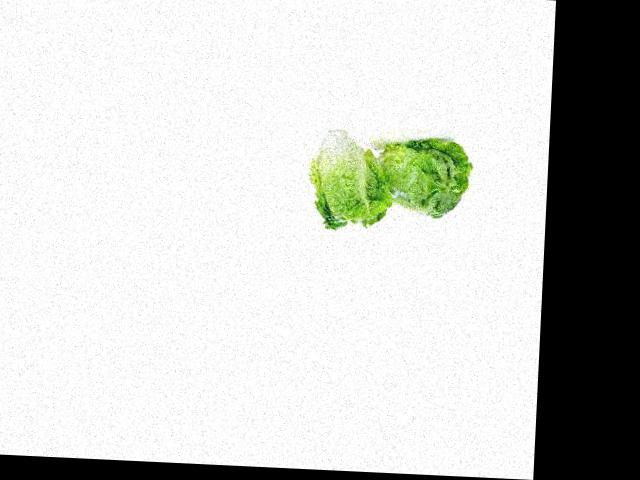lettuce: (302, 122, 476, 232)
